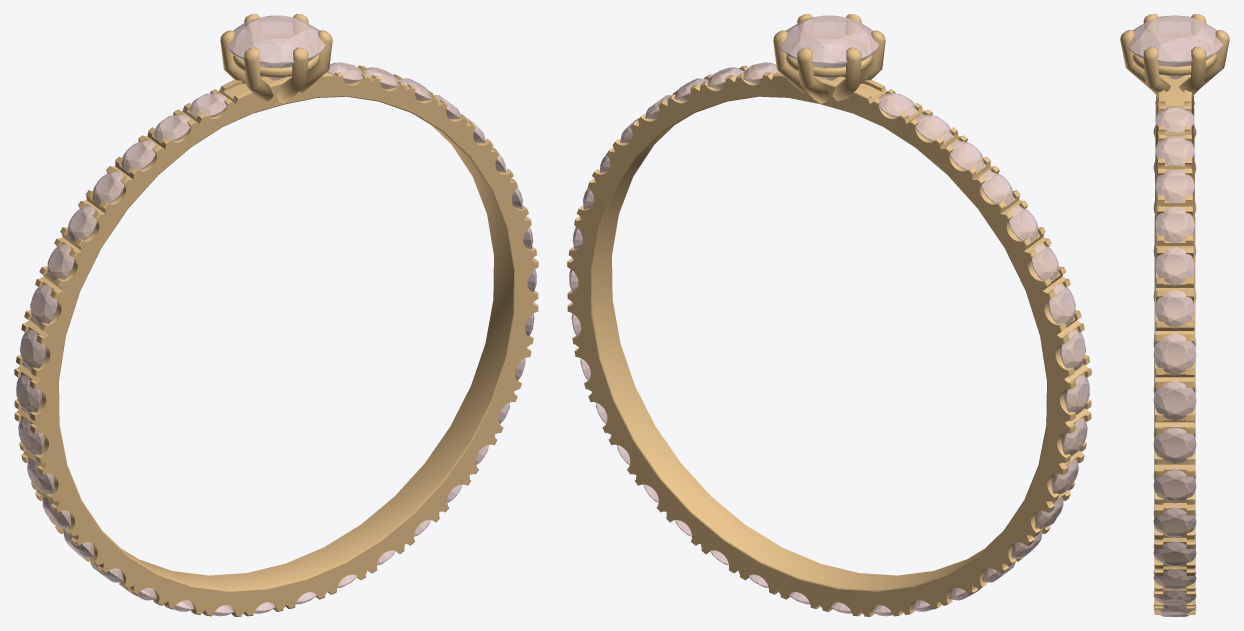
Rendered from Moissanite Ring.gltf.
3 views of the same model, side by side, from view 1: azimuth 30°, elevation 25°; view 2: azimuth 150°, elevation 25°; view 3: azimuth 270°, elevation 25° (orthographic). The views are drawn at different scales.
Visible parts, largest first — view 1: MoissaniteDiamondRing; view 2: MoissaniteDiamondRing; view 3: MoissaniteDiamondRing.
Boxes of the visible parts, x1=… form: MoissaniteDiamondRing: x1=14, y1=14, x2=538, y2=616; MoissaniteDiamondRing: x1=567, y1=14, x2=1091, y2=616; MoissaniteDiamondRing: x1=1120, y1=14, x2=1229, y2=616.
Size of the model in its own units: 17.48 by 18.96 by 3.34.
